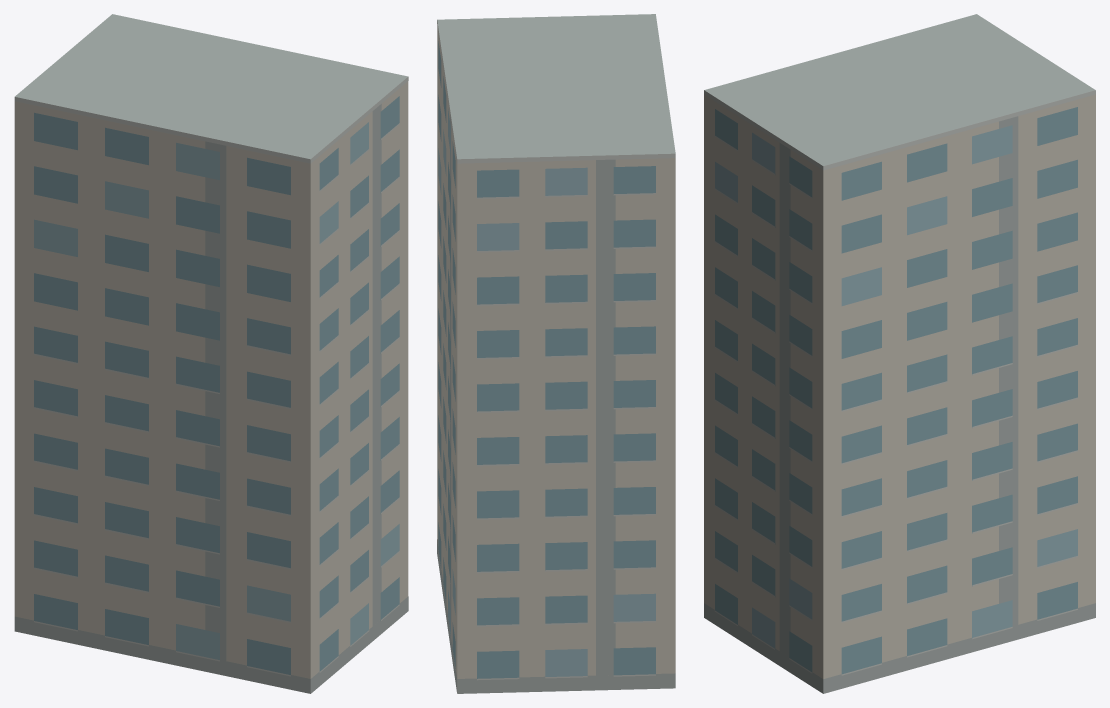
The model's file is residential-52ac598a-04a5-42c5-8e4e-363424f7f1db.glb.
The picture shows the model from 3 angles, left to right: view 1: azimuth 30°, elevation 25°; view 2: azimuth 150°, elevation 25°; view 3: azimuth 270°, elevation 25°; orthographic projection.
Visible parts, largest first — view 1: residential-52ac598a-04a5-42c5-8e4e-363424f7f1db.tmp; view 2: residential-52ac598a-04a5-42c5-8e4e-363424f7f1db.tmp; view 3: residential-52ac598a-04a5-42c5-8e4e-363424f7f1db.tmp.
Boxes of the visible parts, x1,y1,x2,y2 form: residential-52ac598a-04a5-42c5-8e4e-363424f7f1db.tmp: (14, 14, 408, 693); residential-52ac598a-04a5-42c5-8e4e-363424f7f1db.tmp: (437, 14, 675, 693); residential-52ac598a-04a5-42c5-8e4e-363424f7f1db.tmp: (704, 14, 1095, 693).
Bounding box in the file's own units: 18.57 × 30 × 20.19.
